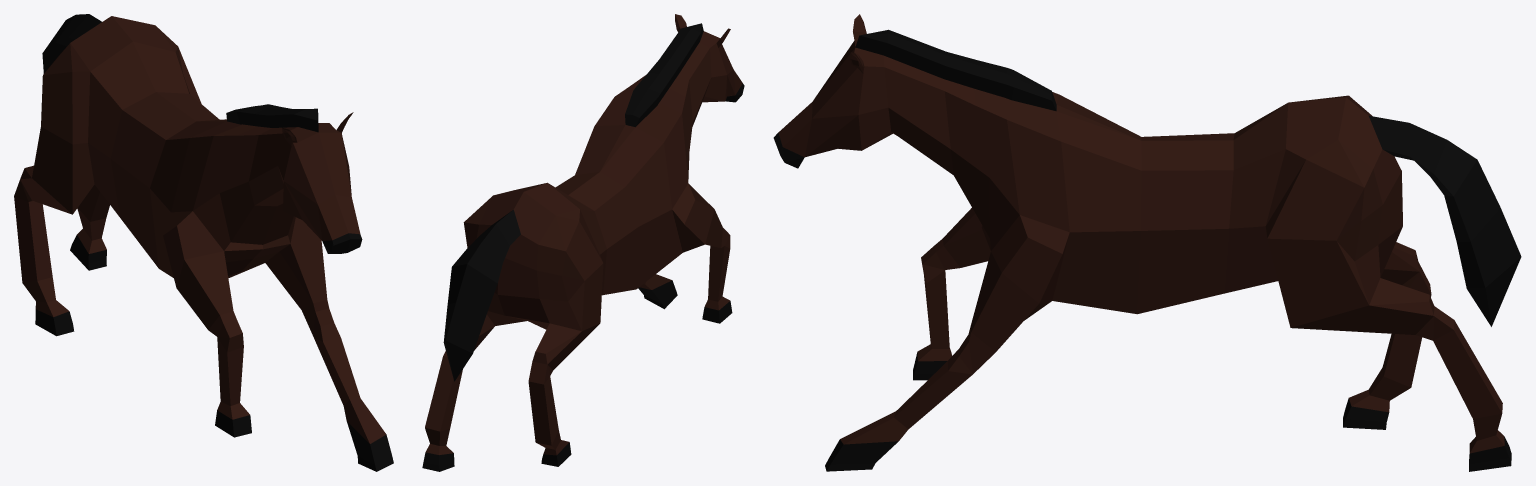
Rendered from Horse_000011.obj.
3 views of the same model, side by side, from view 1: azimuth 30°, elevation 25°; view 2: azimuth 150°, elevation 25°; view 3: azimuth 270°, elevation 25° (orthographic). The views are drawn at different scales.
Visible parts, largest first — view 1: Horse_Cylinder; view 2: Horse_Cylinder; view 3: Horse_Cylinder.
Boxes of the visible parts, x1=… form: Horse_Cylinder: x1=14, y1=14, x2=393, y2=471; Horse_Cylinder: x1=422, y1=14, x2=744, y2=471; Horse_Cylinder: x1=773, y1=14, x2=1521, y2=471.
Bounding box in the file's own units: 2.69 × 6.12 × 9.98.
